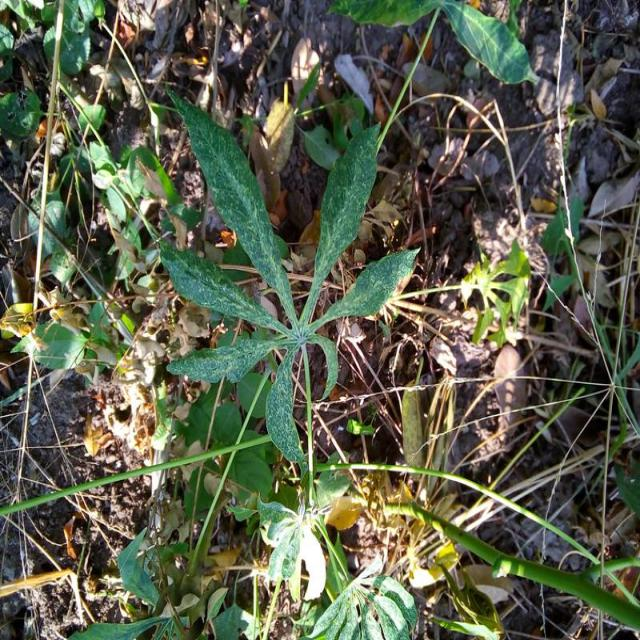cassava leaf: (159, 86, 422, 470), (165, 82, 299, 329), (302, 118, 383, 326)
